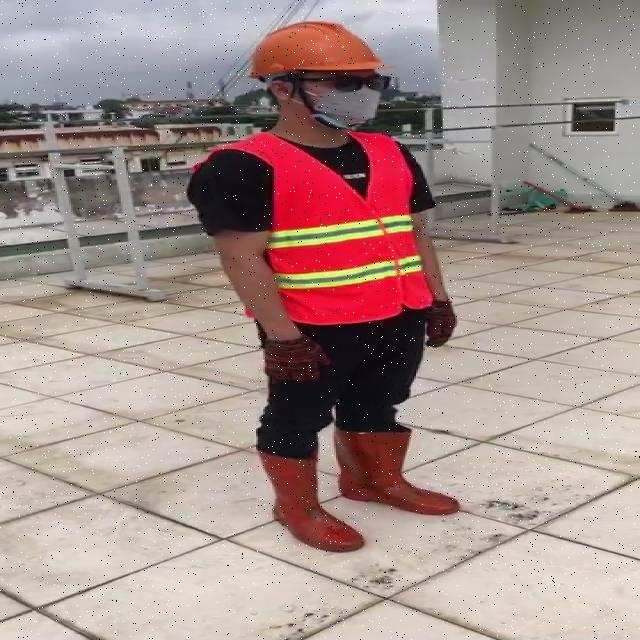Hard_hat: (239, 19, 391, 93)
Person: (187, 15, 461, 595)
Vest: (258, 128, 421, 330)
